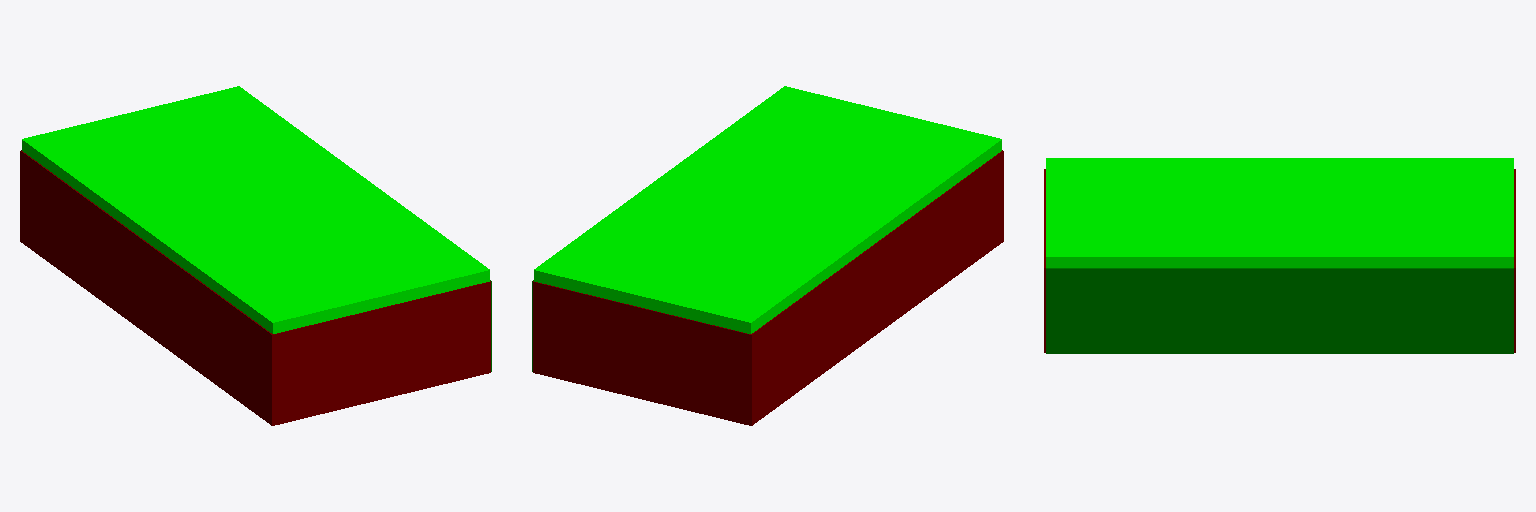
URDF robot description (cube_with_handles):
<?xml version="1.0"?>
<robot name="cube_with_handles">

  <link name="main_surf">
    <inertial>
      <origin rpy="0 0 0" xyz="0 0 0.0"/>
      <mass value="0.1"/>
      <inertia ixx="0.0001" ixy="0" ixz="0" iyy="0.0001" iyz="0" izz="0.0001"/>
    </inertial>
    <visual>
      <origin xyz="0 0 0"/>
      <geometry>
        <box size="0.1 0.2 0.02" />
      </geometry>
      <material name="green2">
        <color rgba="0 1 0 1.0"/>
      </material>
    </visual>
    <collision>
      <origin xyz="0 0 0"/>
      <geometry>
        <box size="0.1 0.2 0.02" />
      </geometry>
    </collision>
  </link>

<joint name="edge1" type="fixed">    
    <origin rpy="0 0 3.14159265359" xyz="0 0.1 -0.015"/>    
    <parent link="main_surf"/>
    <child link="edge_1"/>
  </joint>
  <link name="edge_1">
    <inertial>
      <origin rpy="0 0 0" xyz="0 0 0"/>
      <mass value="0.005"/>
      <inertia ixx="0.0001" ixy="0" ixz="0" iyy="0.0001" iyz="0" izz="0.0001"/>
    </inertial>
    <visual>
      <origin xyz="0 0 0"/>
      <geometry>
        <box size="0.1 0.001 0.04" />
      </geometry>
      <material name="green">
        <color rgba="0.5 0. 0 1.0"/>
      </material>
    </visual>
    <collision>
      <origin xyz="0 0 0"/>
      <geometry>
        <box size="0.1 0.001 0.04" />
      </geometry>
    </collision>
  </link>

<joint name="edge2" type="fixed">    
    <origin rpy="0 0 3.14159265359" xyz="0 -0.1 -0.015"/>    
    <parent link="main_surf"/>
    <child link="edge_2"/>
  </joint>
  <link name="edge_2">
    <inertial>
      <origin rpy="0 0 0" xyz="0 0 0"/>
      <mass value="0.005"/>
      <inertia ixx="0.0001" ixy="0" ixz="0" iyy="0.0001" iyz="0" izz="0.0001"/>
    </inertial>
    <visual>
      <origin xyz="0 0 0"/>
      <geometry>
        <box size="0.1 0.001 0.04" />
      </geometry>
      <material name="green">
        <color rgba="0.5 0. 0 1.0"/>
      </material>
    </visual>
    <collision>
      <origin xyz="0 0 0"/>
      <geometry>
        <box size="0.1 0.001 0.04" />
      </geometry>
    </collision>
  </link>

<joint name="edge3" type="fixed">    
    <origin rpy="0 0 3.14159265359" xyz="-0.05 -0. -0.015"/>    
    <parent link="main_surf"/>
    <child link="edge_3"/>
  </joint>
  <link name="edge_3">
    <inertial>
      <origin rpy="0 0 0" xyz="0 0 0"/>
      <mass value="0.05"/>
      <inertia ixx="0.0001" ixy="0" ixz="0" iyy="0.0001" iyz="0" izz="0.0001"/>
    </inertial>
    <visual>
      <origin xyz="0 0 0"/>
      <geometry>
        <box size="0.001 0.2 0.04" />
      </geometry>
      <material name="green">
        <color rgba="0.5 0. 0 1.0"/>
      </material>
    </visual>
    <collision>
      <origin xyz="0 0 0"/>
      <geometry>
        <box size="0.001 0.2 0.04" />
      </geometry>
    </collision>
  </link>


<joint name="edge4" type="fixed">    
    <origin rpy="0 0 -3.14159265359" xyz="0.05 -0. -0.015"/>    
    <parent link="main_surf"/>
    <child link="edge_4"/>
  </joint>
  <link name="edge_4">
    <inertial>
      <origin rpy="0 0 0" xyz="0 0 0"/>
      <mass value="0.05"/>
      <inertia ixx="0.0001" ixy="0" ixz="0" iyy="0.0001" iyz="0" izz="0.0001"/>
    </inertial>
    <visual>
      <origin xyz="0 0 0"/>
      <geometry>
        <box size="0.001 0.2 0.04" />
      </geometry>
      <material name="green">
        <color rgba="0. 0.5 0 1.0"/>
      </material>
    </visual>
    <collision>
      <origin xyz="0 0 0"/>
      <geometry>
        <box size="0.001 0.2 0.04" />
      </geometry>
    </collision>
  </link>


</robot>

--- Render facts (derived) ---
Views: 3 orthographic renders of the robot side by side, from view 1: azimuth 30°, elevation 25°; view 2: azimuth 150°, elevation 25°; view 3: azimuth 270°, elevation 25°.
Model cube_with_handles with 5 links and 4 joints (4 fixed), rooted at main_surf, posed every joint at zero.
Links seen in each view (by area): view 1: main_surf, edge_3, edge_2; view 2: main_surf, edge_3, edge_1; view 3: main_surf, edge_4.
Link boxes in pixels (box(x1,y1,x2,y2)): main_surf: box(22, 86, 489, 333); edge_3: box(20, 151, 272, 425); edge_2: box(273, 281, 490, 425); main_surf: box(534, 86, 1001, 333); edge_3: box(751, 151, 1003, 425); edge_1: box(533, 281, 750, 425); main_surf: box(1046, 158, 1513, 267); edge_4: box(1046, 268, 1513, 353).
Bounding box of the posed robot: 0.101 × 0.201 × 0.045 m (x, y, z).
Geometry: primitives only (box / cylinder / sphere), no mesh files.